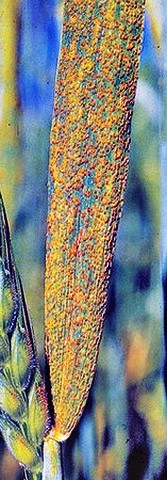Leaf Rust: (45, 8, 140, 391)
